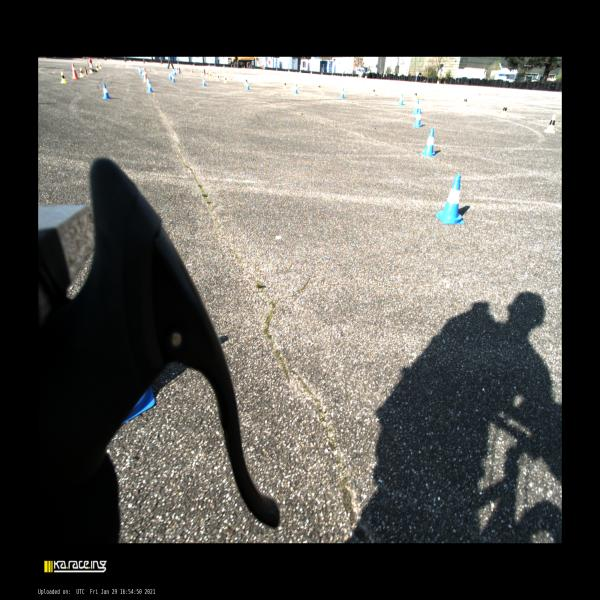blue_cone: (435, 175, 465, 225), (420, 128, 436, 157), (413, 109, 423, 129), (103, 84, 111, 100), (398, 92, 404, 106), (147, 81, 154, 93), (413, 100, 419, 113), (340, 87, 345, 98), (245, 81, 250, 90), (202, 77, 207, 86), (294, 84, 298, 94), (171, 75, 176, 82), (146, 76, 149, 86), (168, 72, 172, 79), (141, 71, 144, 78), (173, 69, 176, 75), (139, 68, 141, 75), (170, 70, 172, 76), (178, 68, 179, 74)
large_orange_cone: (71, 62, 80, 80), (88, 58, 94, 72), (143, 68, 147, 82)
orange_cone: (84, 66, 88, 74), (191, 68, 194, 72), (204, 68, 205, 74)
yellow_cone: (543, 113, 556, 135), (499, 100, 508, 119), (462, 93, 468, 109), (60, 71, 67, 84), (282, 80, 288, 90), (412, 90, 418, 100), (79, 67, 84, 77), (317, 82, 322, 92), (372, 86, 376, 97), (224, 76, 228, 84), (89, 65, 93, 73), (95, 64, 99, 71), (216, 74, 220, 81), (244, 77, 247, 86), (206, 71, 209, 78), (99, 63, 102, 69), (209, 73, 212, 79), (202, 70, 204, 75)
